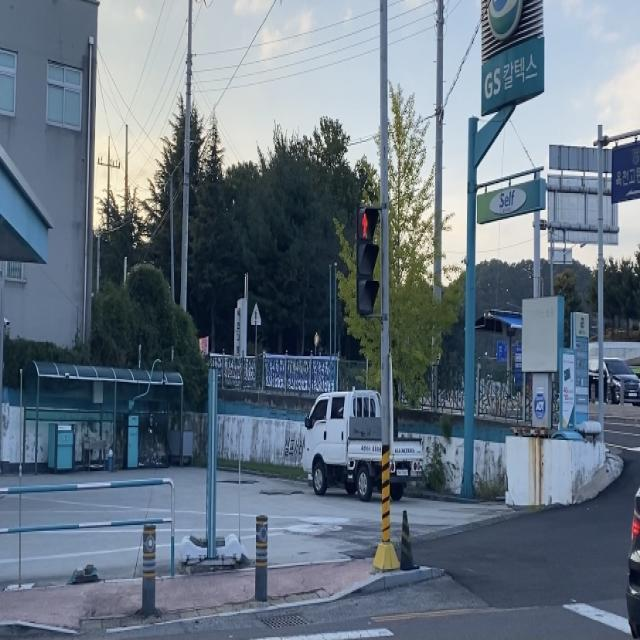red_light: (360, 209, 372, 240)
